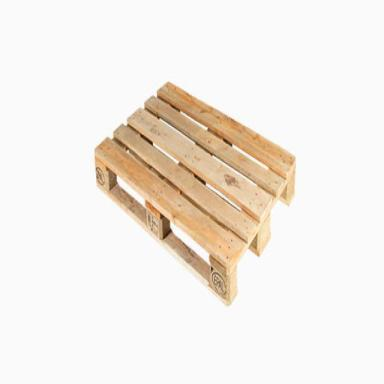pallet: (94, 81, 296, 307)
